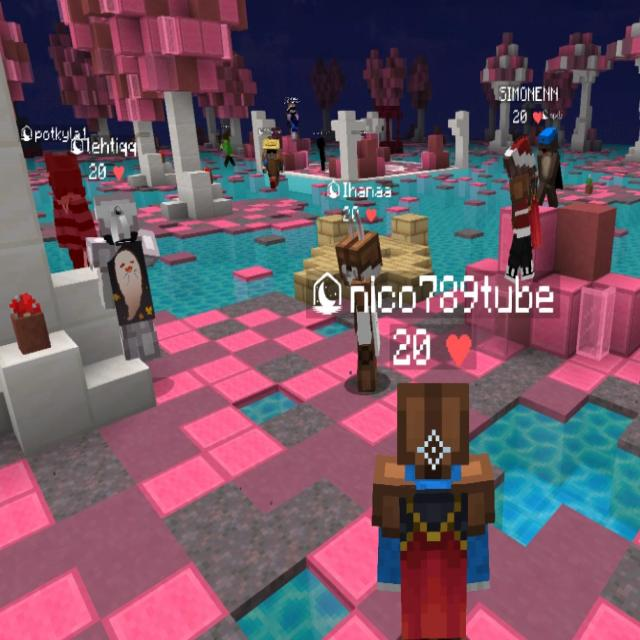Player: (336, 229, 384, 392), (45, 148, 91, 270), (538, 127, 560, 207)
